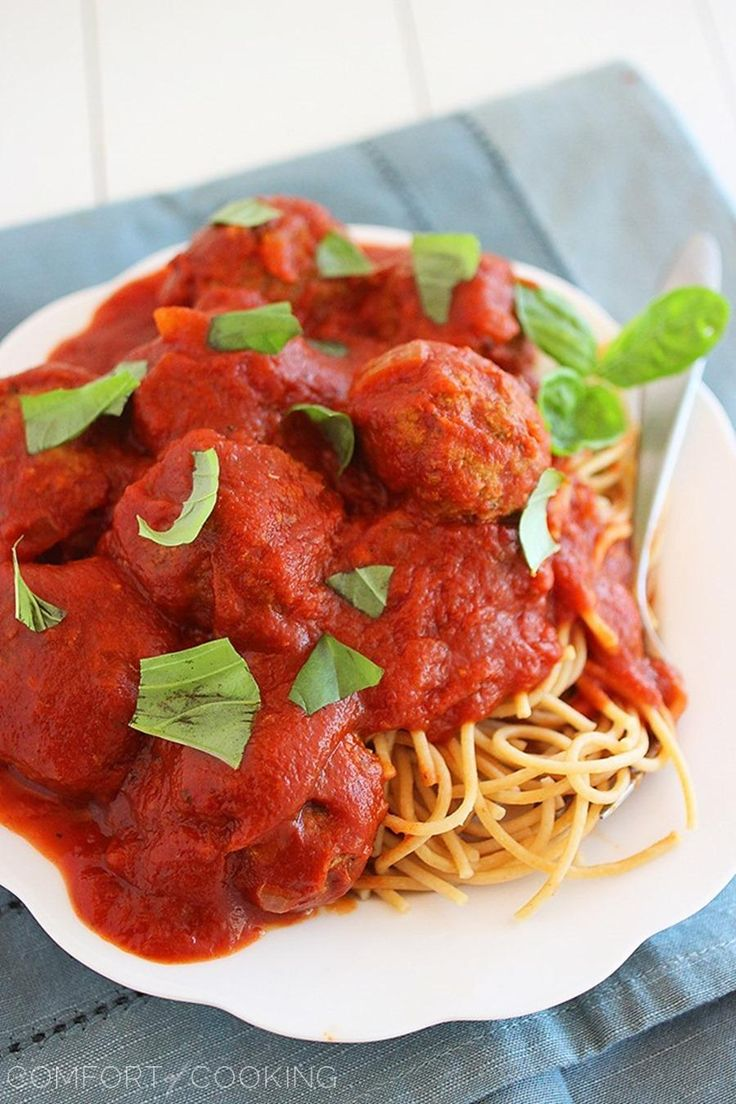meatballs: (123, 446, 326, 624)
plain spaghetti: (452, 751, 602, 844)
